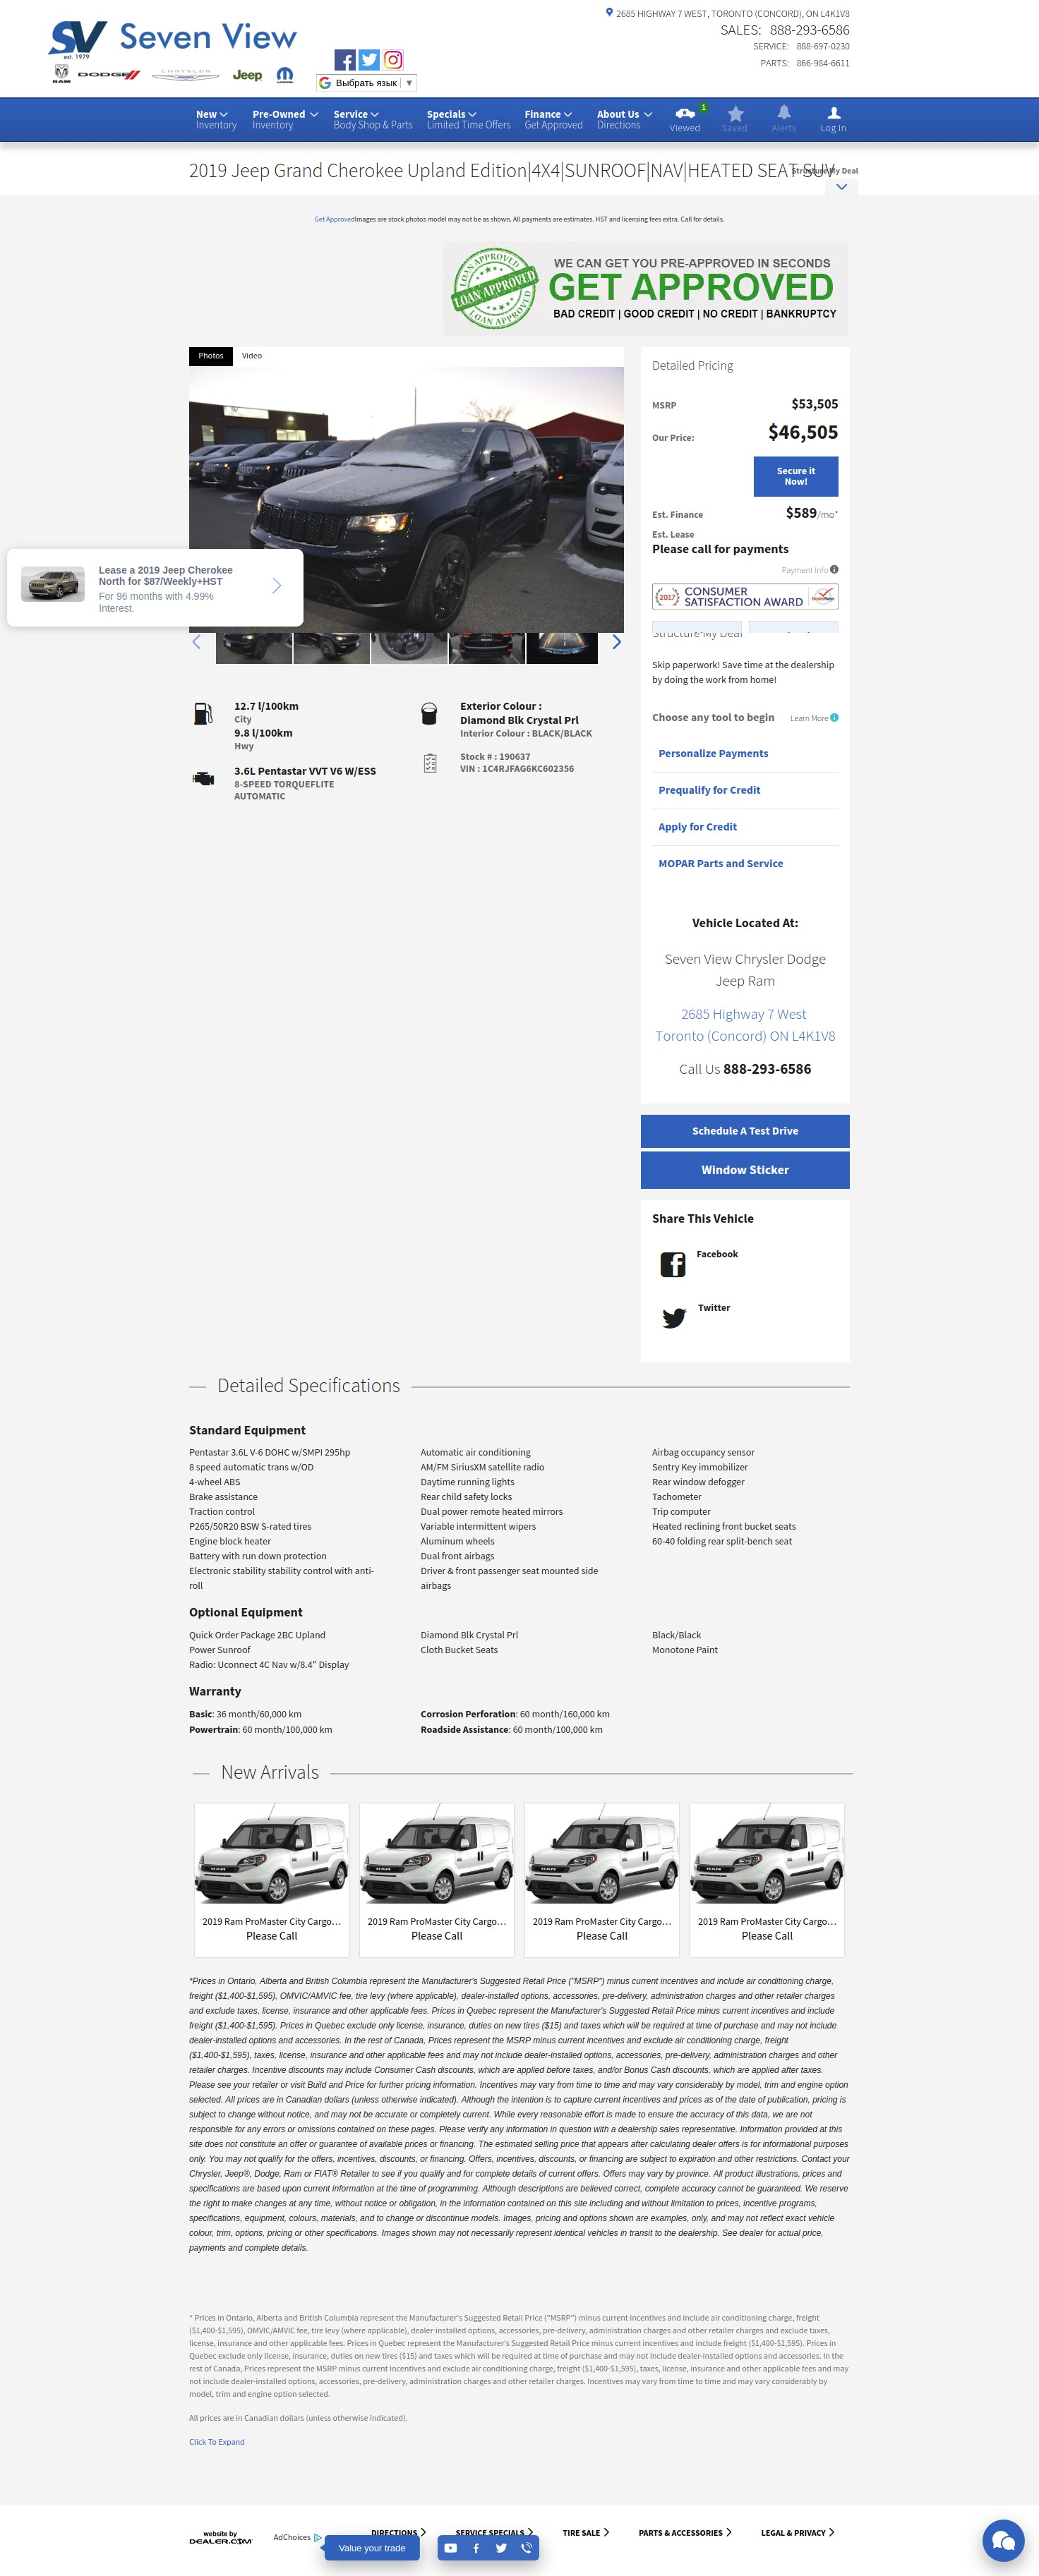car: (613, 636, 621, 651)
